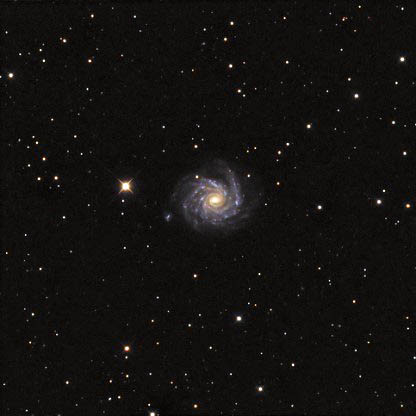NGC 1232: (156, 150, 260, 244)
